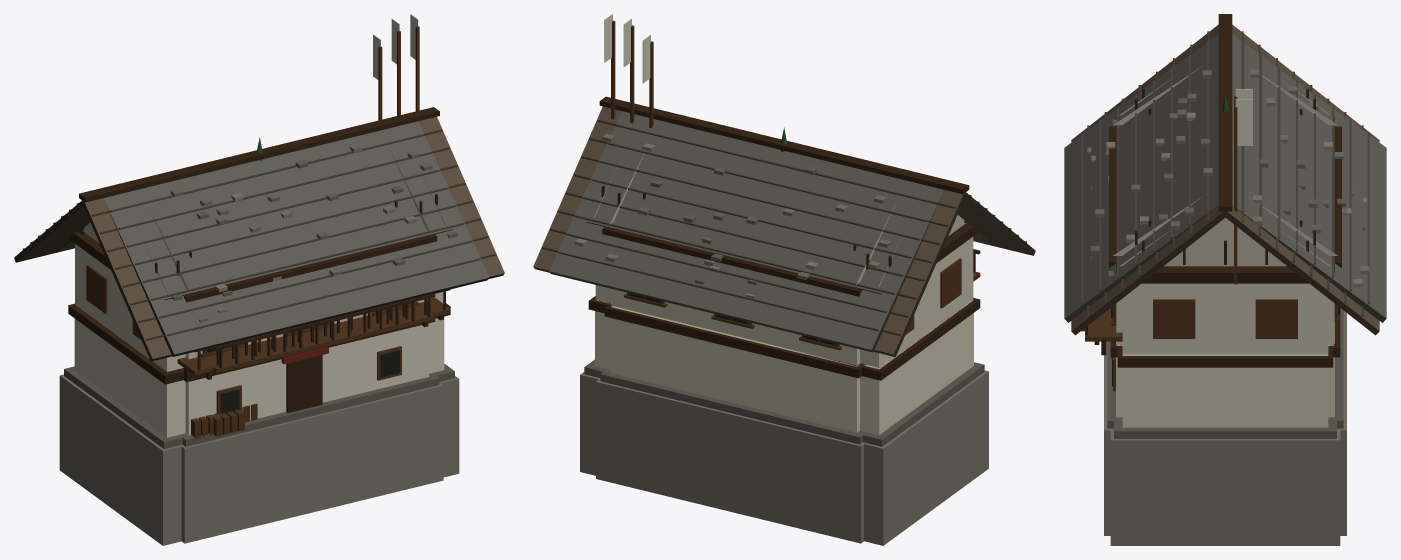
The model's file is kit.glb.
3 renders of one model, left to right at view 1: azimuth 30°, elevation 25°; view 2: azimuth 150°, elevation 25°; view 3: azimuth 270°, elevation 25°, orthographic. The views are drawn at different scales.
Parts seen in each view (by area): view 1: house_0, house_1, house_2; view 2: house_0, house_1, house_2; view 3: house_1, house_0.
Boxes of the visible parts, x1,y1,x2,y2 form: house_0: [98, 19, 489, 543]; house_1: [14, 14, 504, 545]; house_2: [56, 34, 409, 422]; house_0: [549, 18, 949, 543]; house_1: [533, 14, 1035, 545]; house_2: [642, 35, 992, 296]; house_1: [1071, 14, 1379, 545]; house_0: [1064, 24, 1386, 535].
Bounding box in the file's own units: 13.3 × 14.65 × 9.4.
